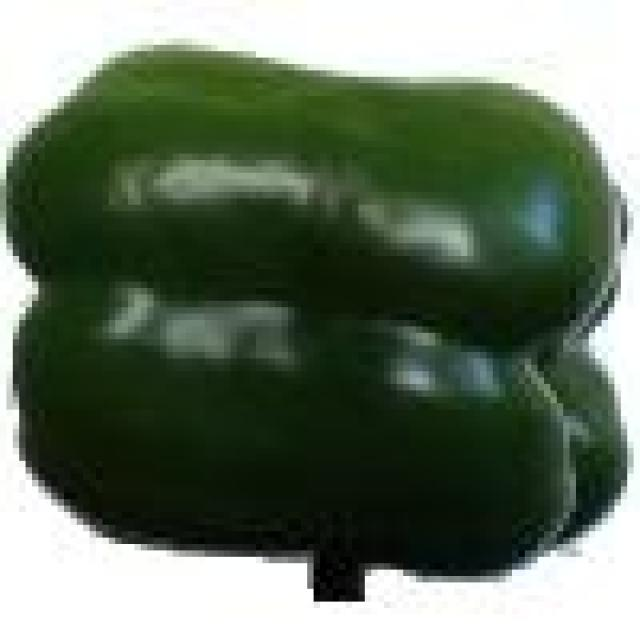Bell Pepper: (13, 45, 621, 589)
